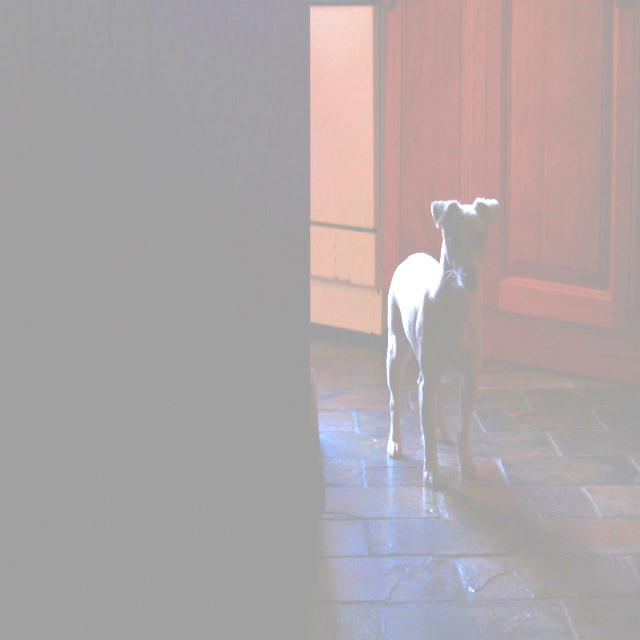Dog: (309, 114, 581, 554)
